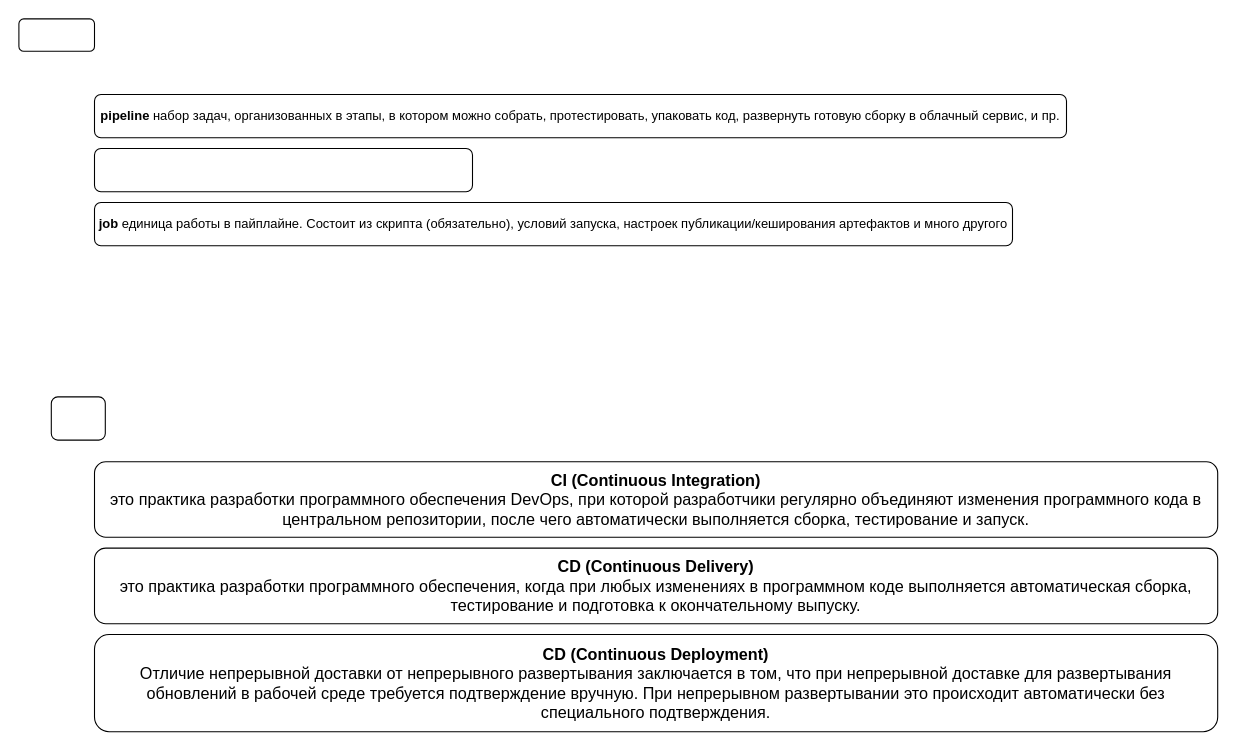
Some shapes in this 1237 by 751 pixel diagram are drawn without their labels. Each missing label, with the centre of its shape:
CI/CD: the point at 77,418
GitlabCI: the point at 56,34
stage единица организации пайплайна, содержит 1+ задачу: the point at 283,169
